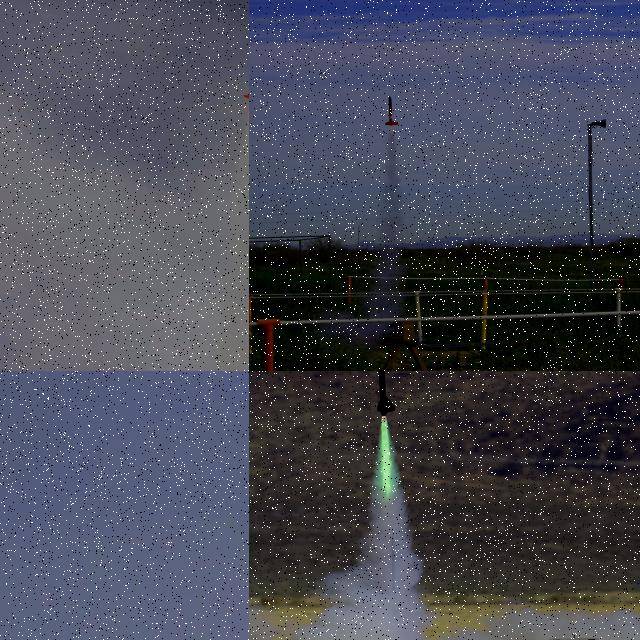Rocket: (372, 371, 396, 418), (384, 96, 399, 126), (244, 65, 249, 105)
